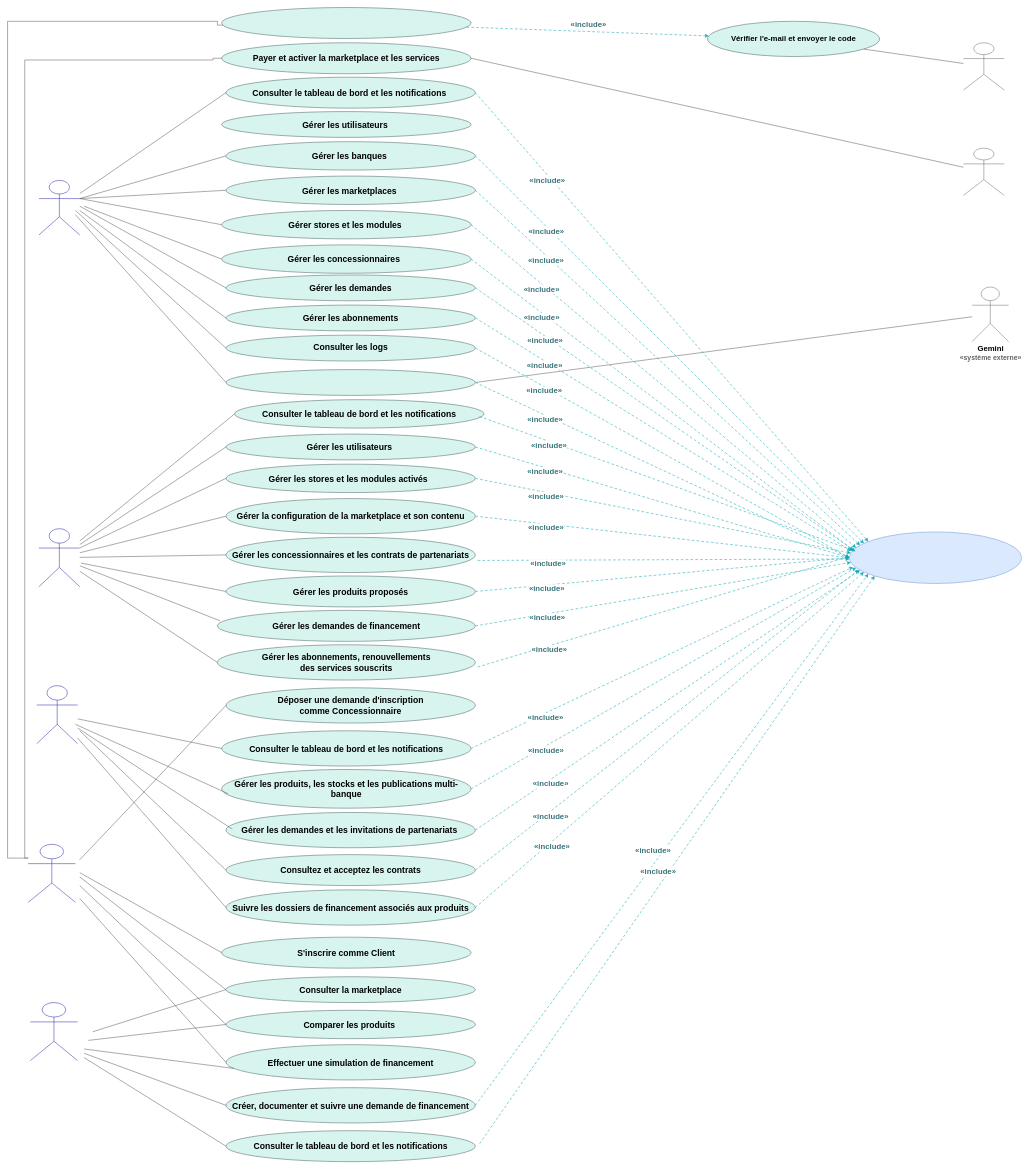
Some shapes in this 1029 by 1170 pixel diagram are drawn without their labels. Here are the shapes that lost their labels. From the top down, the centre of each, then its label:
At (346,23): "Soumettre une demande de marketplace".
At (983,66): "Service d'e-mail «système externe»".
At (983,171): "Stripe «système externe»".
At (59,207): "Administrateur SaaS".
At (350,382): "Interagir avec l’assistant IA".
At (59,557): "Administrateur Banque".
At (935,557): "S'authentifier".
At (57,714): "Concessionnaire".
At (51,873): "Internaute".
At (54,1031): "Client".
